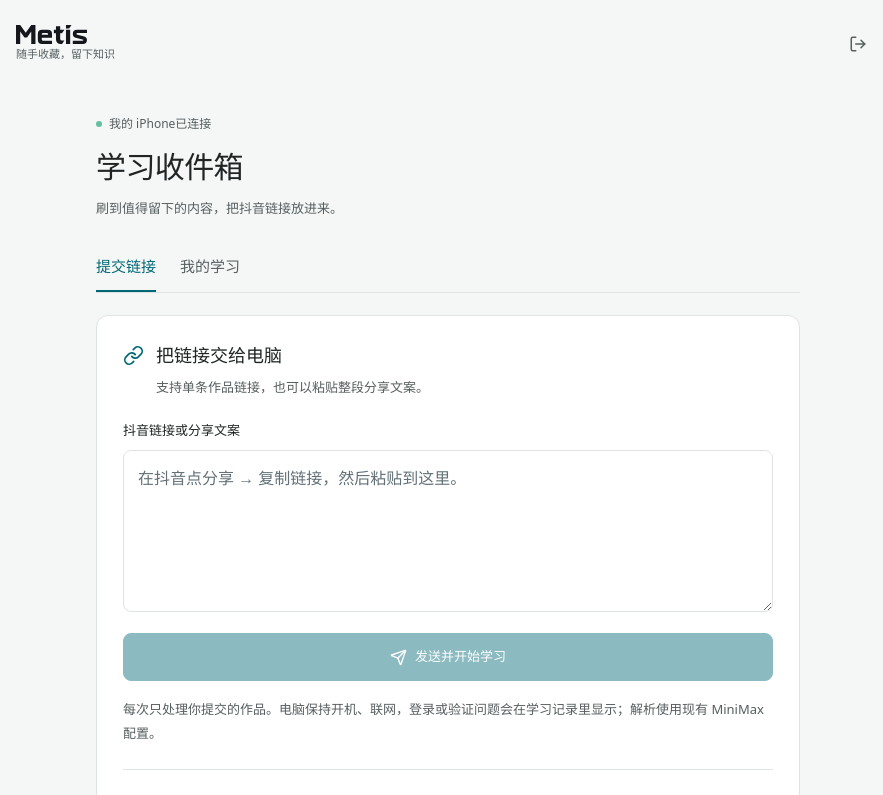
Scenario: 手机学习收件箱 › 提交整段分享文案一次，自动显示阶段、知识和原文依据
Type "分享文案 https://v.douyin.com/test/ 复制观看" into the text box labelled "抖音链接或分享文案".
click(448, 531); type("分享文案 https://v.douyin.com/test/ 复制观看")  # box [123,450,773,612]
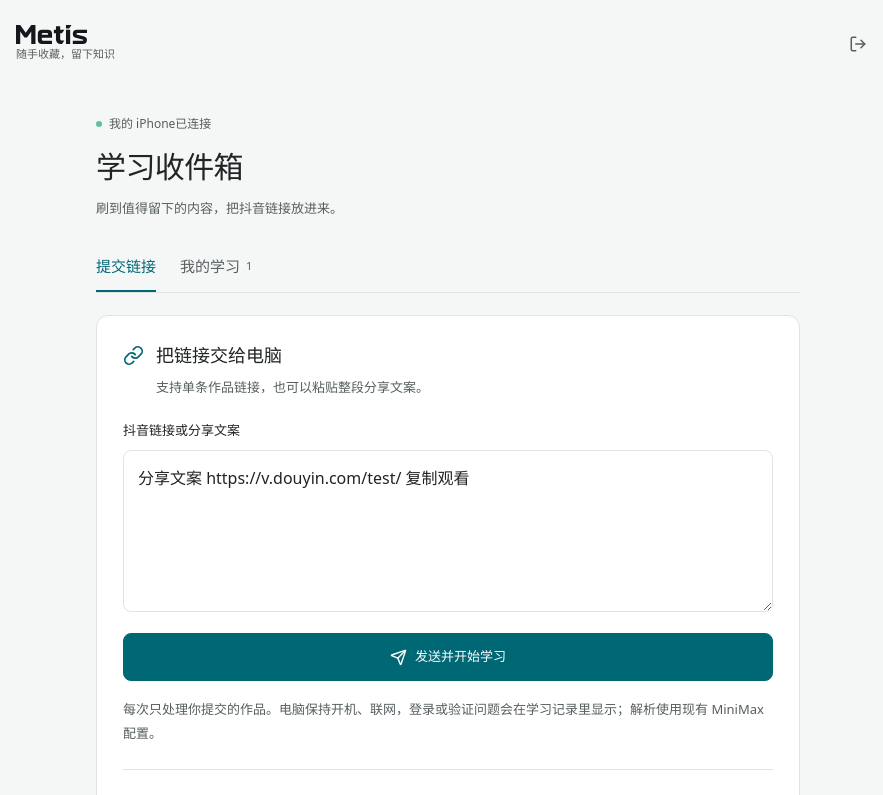
Click the button "发送并开始学习".
click(448, 657)  # box [123,633,773,681]
(page scrolled)
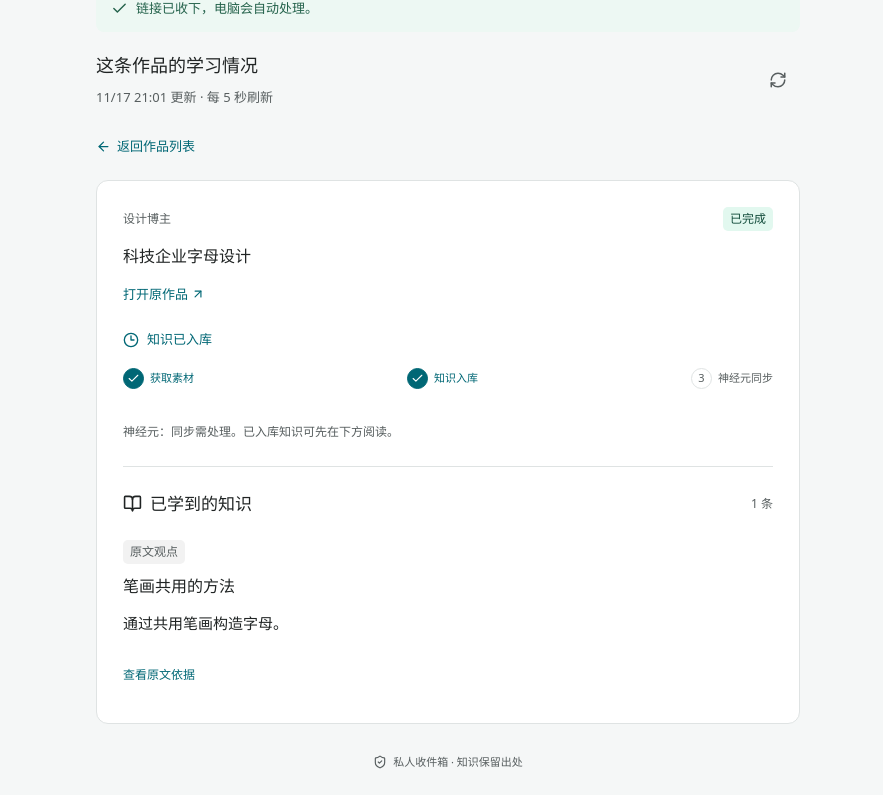
expect the heading "笔画共用的方法" is shown: met, box [123,575,235,597]
expect the text "知识已入库" is shown: met, box [123,330,212,348]
expect the text "神经元：同步需处理。已入库知识可先在下方阅读。" is shown: met, box [123,423,399,440]
Click the heading "查看原文依据".
click(159, 674)  # box [123,666,195,683]
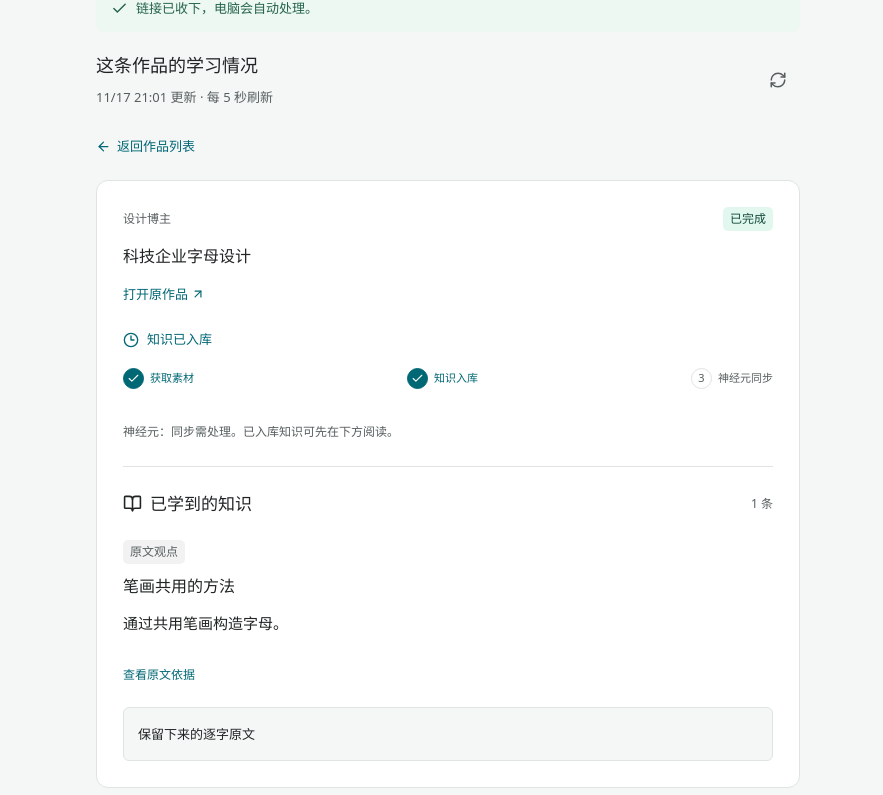
expect the text "保留下来的逐字原文" is shown: met, box [123,707,773,761]
